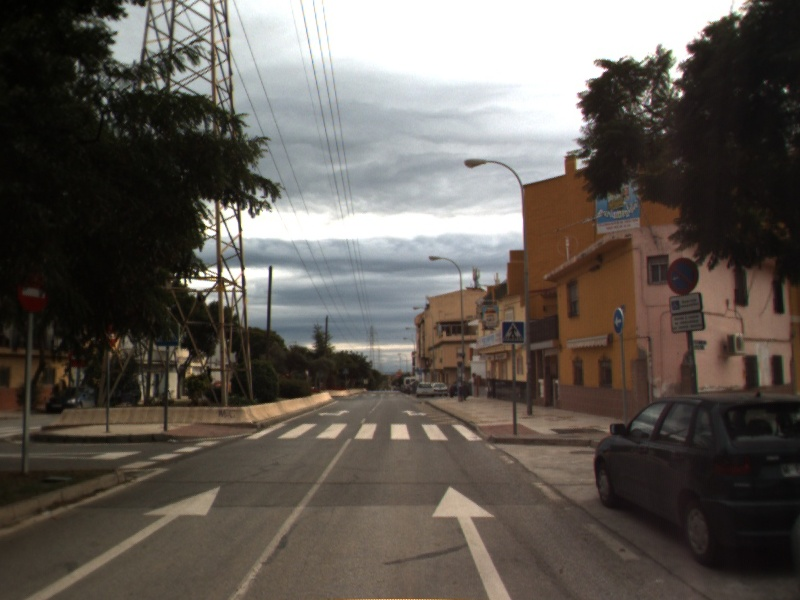STRAIGHT: (20, 484, 223, 600), (429, 484, 516, 600)
STRAIGHT_LEFT: (316, 408, 352, 418)
STRAIGHT_RIGHT: (399, 407, 430, 418)
